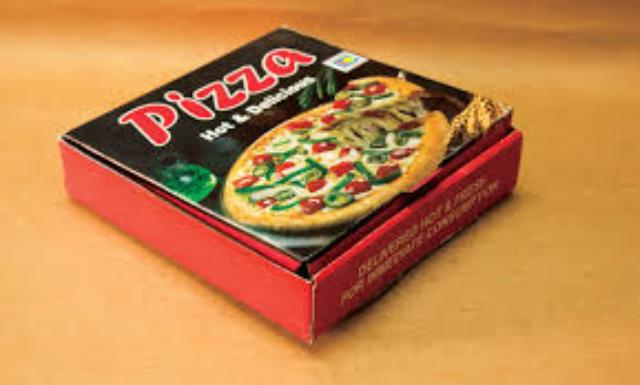cardboard paper: (58, 27, 518, 339)
